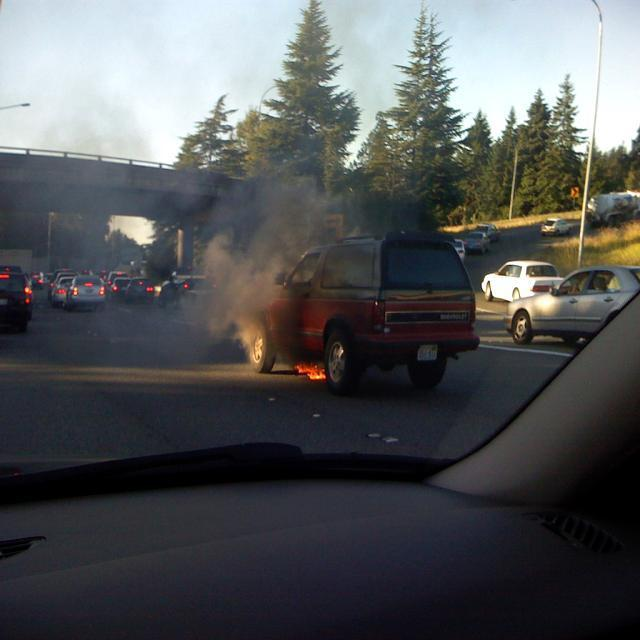Fire: (288, 354, 329, 382), (242, 332, 266, 372)
Smoke: (170, 156, 355, 334)
